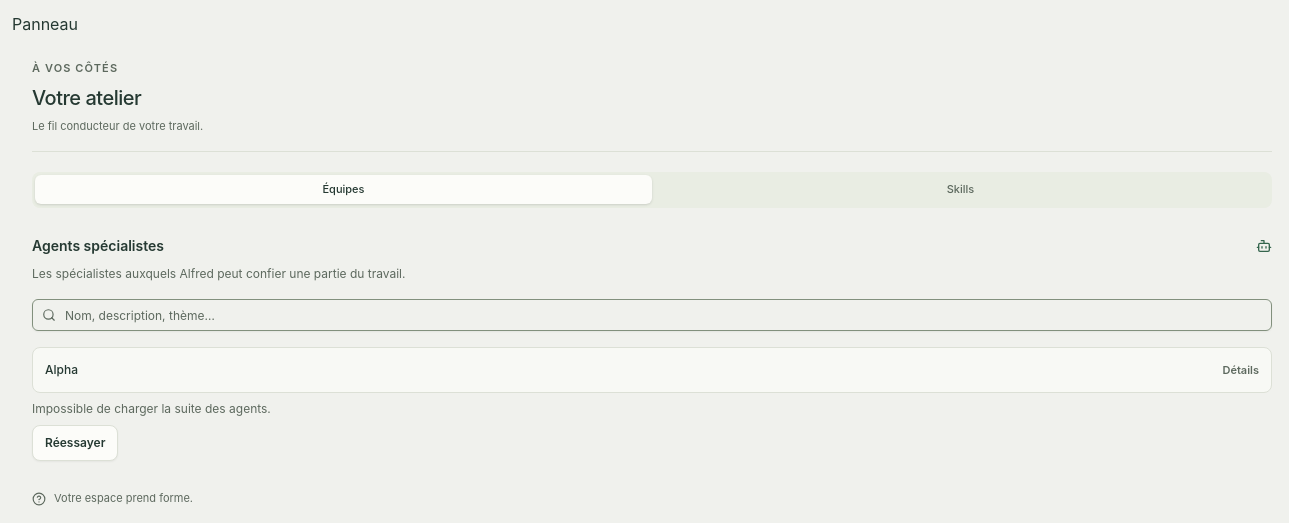
Équipes tab behind the teams capability › retries a failed next page without dropping the loaded agents
expect the message shows "Impossible de charger la suite des agents.": met, box [32, 401, 271, 416]
expect the heading "Alpha" is shown: met, box [45, 362, 78, 378]
Click the button "Réessayer" at (75, 443), box [32, 425, 118, 461]
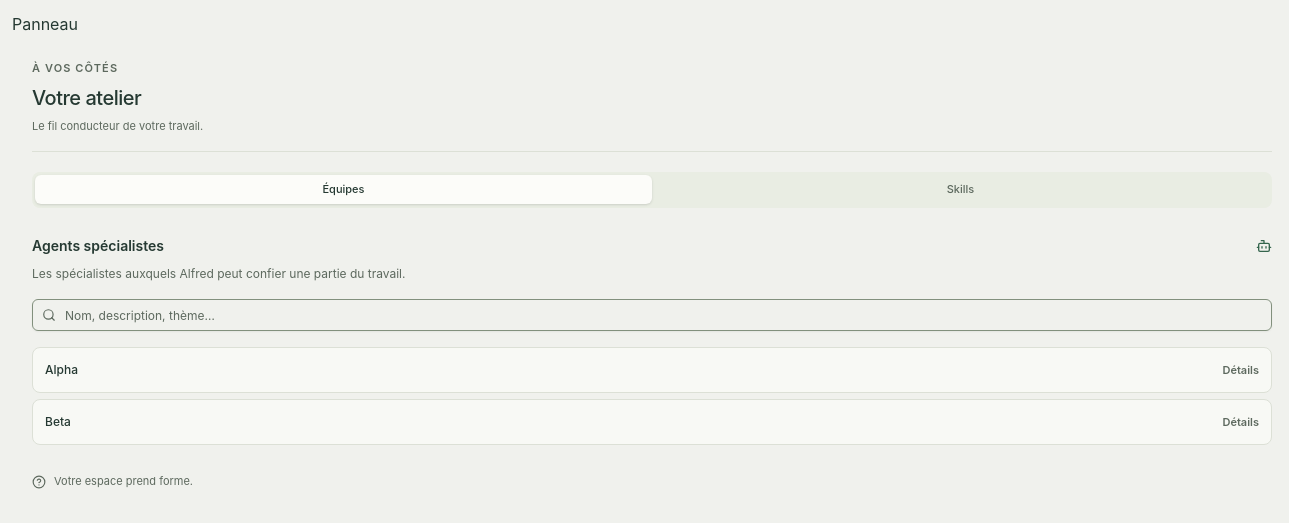
expect the heading "Beta" is shown: met, box [45, 414, 71, 430]
